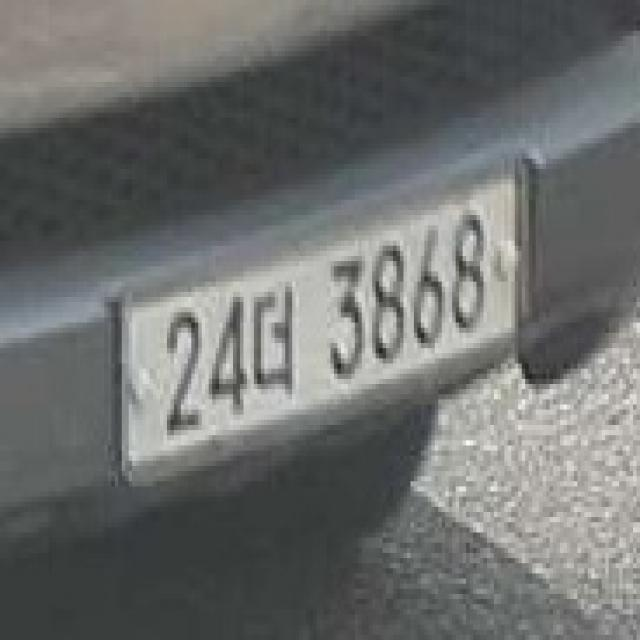2: (160, 302, 207, 441)
3: (321, 241, 368, 393)
4: (210, 281, 253, 423)
6: (413, 215, 450, 355)
8: (453, 203, 498, 347), (373, 229, 412, 369)
deo: (255, 263, 306, 415)
license_plate: (123, 166, 528, 482)
